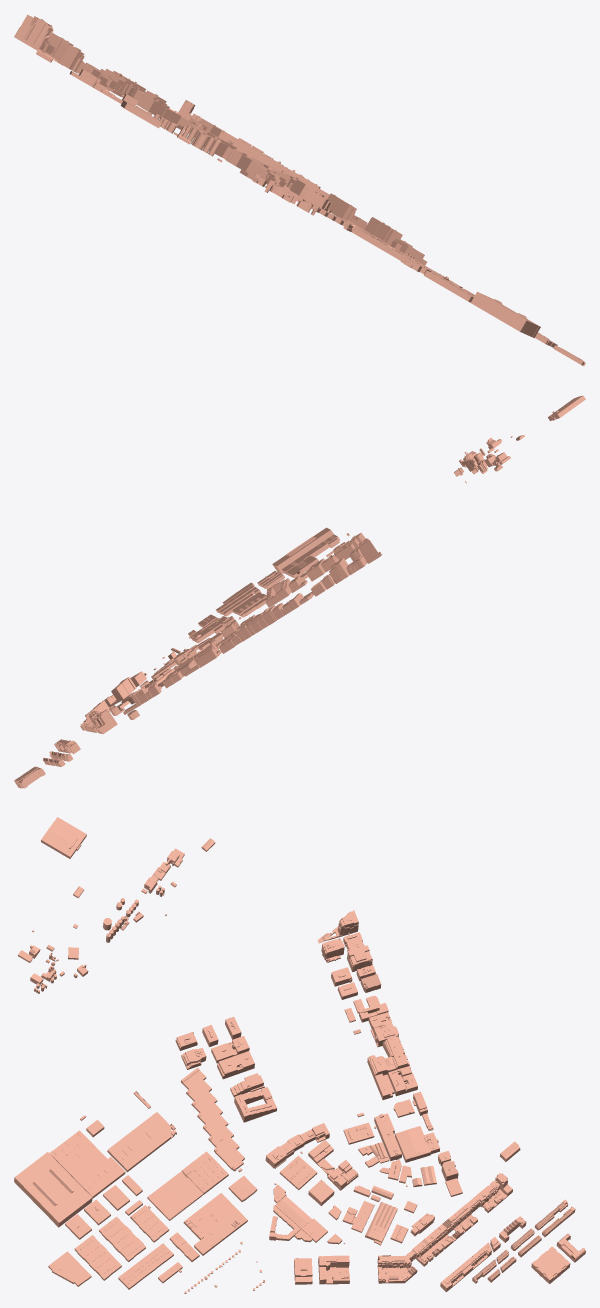
3 views of the same model, one above another, from view 1: azimuth 30°, elevation 25°; view 2: azimuth 150°, elevation 25°; view 3: azimuth 270°, elevation 25° (orthographic). The views are drawn at different scales.
Size of the model in its own units: 3.1e+07 by 2.51e+07 by 4.23e+07.
